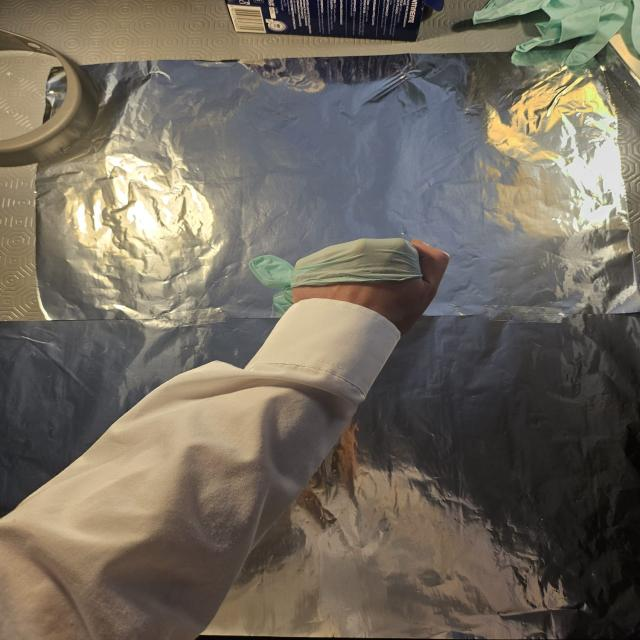glove_partial: (245, 236, 450, 335)
